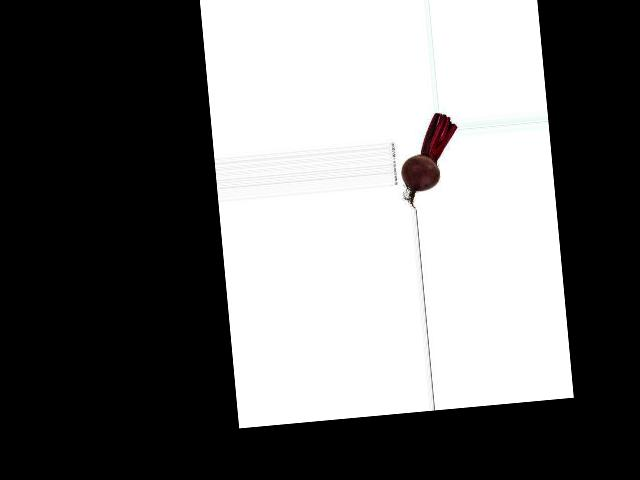beet: (396, 110, 463, 208)
